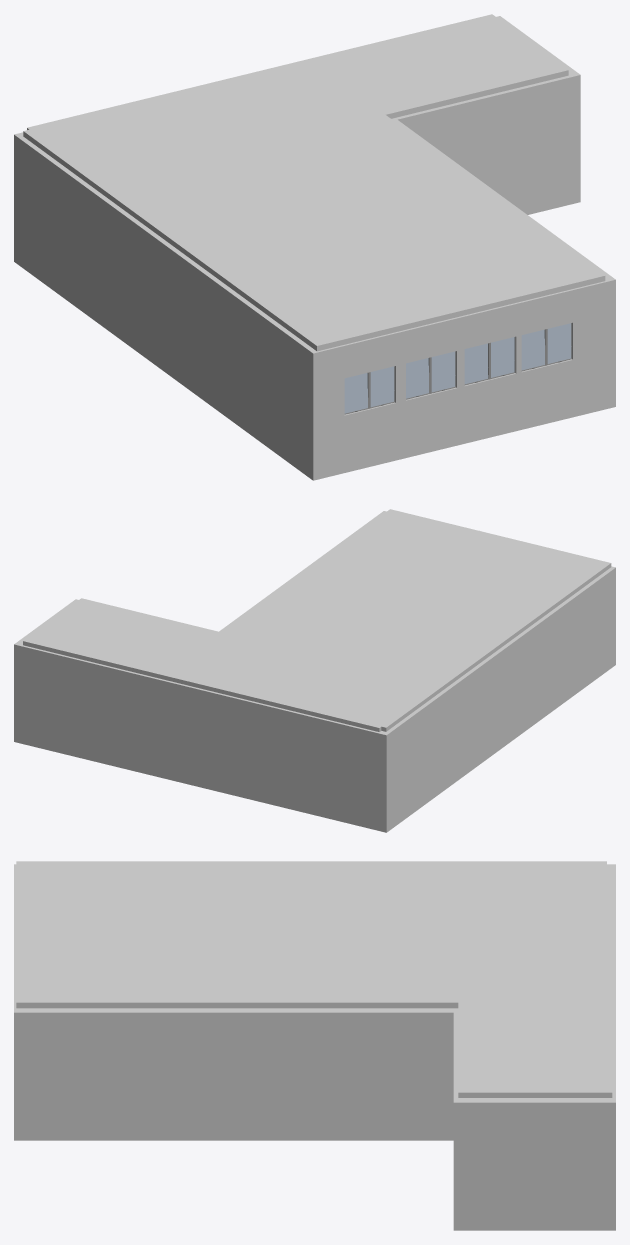
Rendered from SPOTDONE 1.fbx.
3 views of the same model, one above another, from view 1: azimuth 30°, elevation 25°; view 2: azimuth 150°, elevation 25°; view 3: azimuth 270°, elevation 25° (orthographic). The views are drawn at different scales.
Visible parts, largest first — view 1: UP, walls, windows; view 2: walls, UP; view 3: UP, walls.
Part boxes in pixels (x1,y1,x2,y2): UP: [23, 14, 605, 351]; walls: [14, 16, 615, 480]; windows: [344, 323, 571, 414]; walls: [14, 511, 615, 832]; UP: [23, 509, 611, 731]; UP: [16, 861, 612, 1097]; walls: [14, 864, 615, 1230].
Size of the model in its own units: 4485 by 1169 by 4781.
